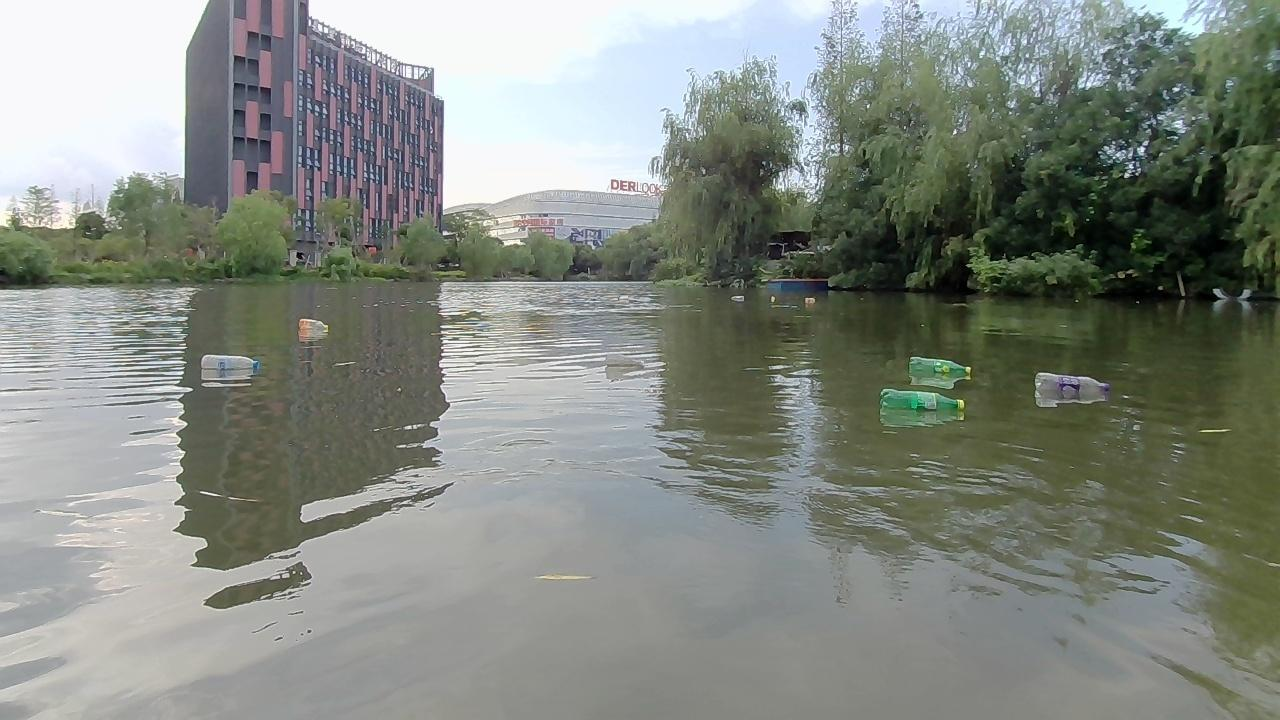bottle: (877, 385, 964, 417), (1030, 367, 1111, 400), (906, 352, 974, 381), (193, 349, 255, 374), (298, 317, 331, 335), (731, 287, 747, 302), (800, 296, 816, 308)
